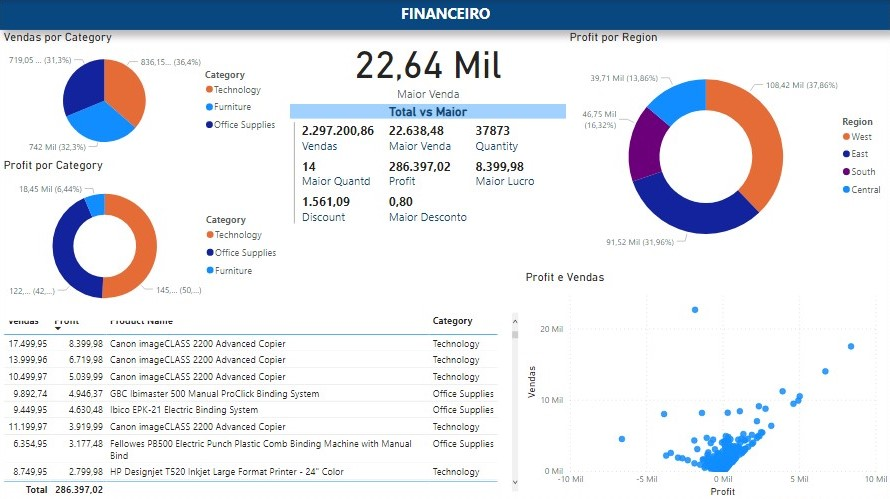

What the dashboard file says about the page in this screenshot:
{"tool":"powerbi","page":{"name":"Financeiro","canvas":[1280,720],"ordinal":5},"visuals":[{"type":"pieChart","fields":{"Y":["Sum(Orders.Vendas)"],"Category":["Orders.Category"]},"box":[0,43.1,409.6,184],"z":0},{"type":"scatterChart","fields":{"Y":["Orders.Vendas"],"X":["Orders.Profit"]},"box":[750.2,388,530.3,332],"z":1000},{"type":"card","fields":{"Values":["Orders.MaioresVendas"]},"box":[416.8,43.1,396.6,106.3],"z":4000},{"type":"multiRowCard","title":"Total vs Maior","fields":{"Values":["Sum(Orders.Vendas)","Orders.Maior Venda","Sum(Orders.Quantity)","Orders.Maior Quantd","Sum(Orders.Profit)","Orders.Maior Lucro","Sum(Orders.Discount)","Orders.Maior Desconto"]},"box":[416.8,149.5,396.6,238.6],"z":5000},{"type":"tableEx","fields":{"Values":["Orders.Vendas","Sum(Orders.Profit)","Orders.Product Name","Orders.Category"]},"box":[0,461.3,750.2,258.7],"z":6000},{"type":"donutChart","fields":{"Category":["Orders.Region"],"Y":["Sum(Orders.Profit)"]},"box":[813.4,43.1,467.1,344.9],"z":7000},{"type":"donutChart","fields":{"Category":["Orders.Category"],"Y":["Sum(Orders.Profit)"]},"box":[0,227.1,411,234.3],"z":8000},{"type":"textbox","box":[0,0,1280.5,43.1],"z":9000}]}

Visuals, with their boxes in screenshot pixels (x1, y1, x2, y2), scaled from the page's 1280x720 canvas onto the 890x499 screenshot:
pieChart - Sum(Orders.Vendas) x Orders.Category: bbox=(0, 30, 285, 157)
scatterChart - Orders.Vendas x Orders.Profit: bbox=(522, 269, 889, 498)
card - Orders.MaioresVendas: bbox=(290, 30, 566, 104)
"Total vs Maior" multiRowCard: bbox=(290, 104, 566, 269)
tableEx - Orders.Vendas x Sum(Orders.Profit): bbox=(0, 320, 522, 498)
donutChart - Orders.Region x Sum(Orders.Profit): bbox=(566, 30, 889, 269)
donutChart - Orders.Category x Sum(Orders.Profit): bbox=(0, 157, 286, 320)
textbox: bbox=(0, 0, 889, 30)
